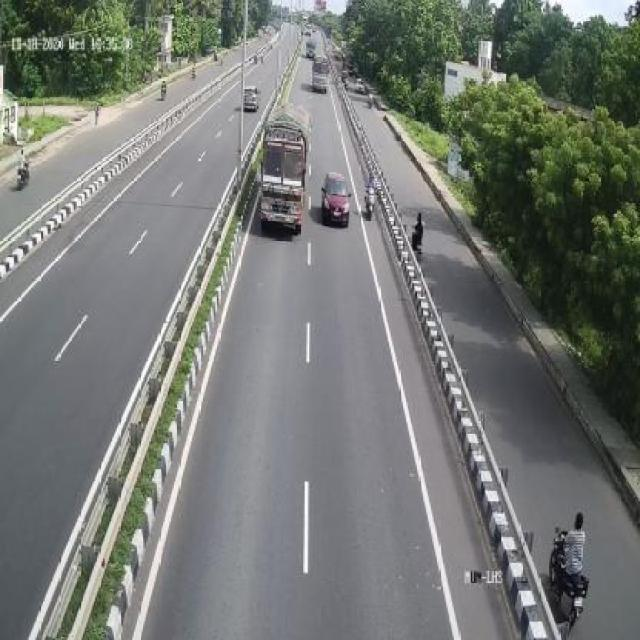car: (321, 164, 354, 230)
